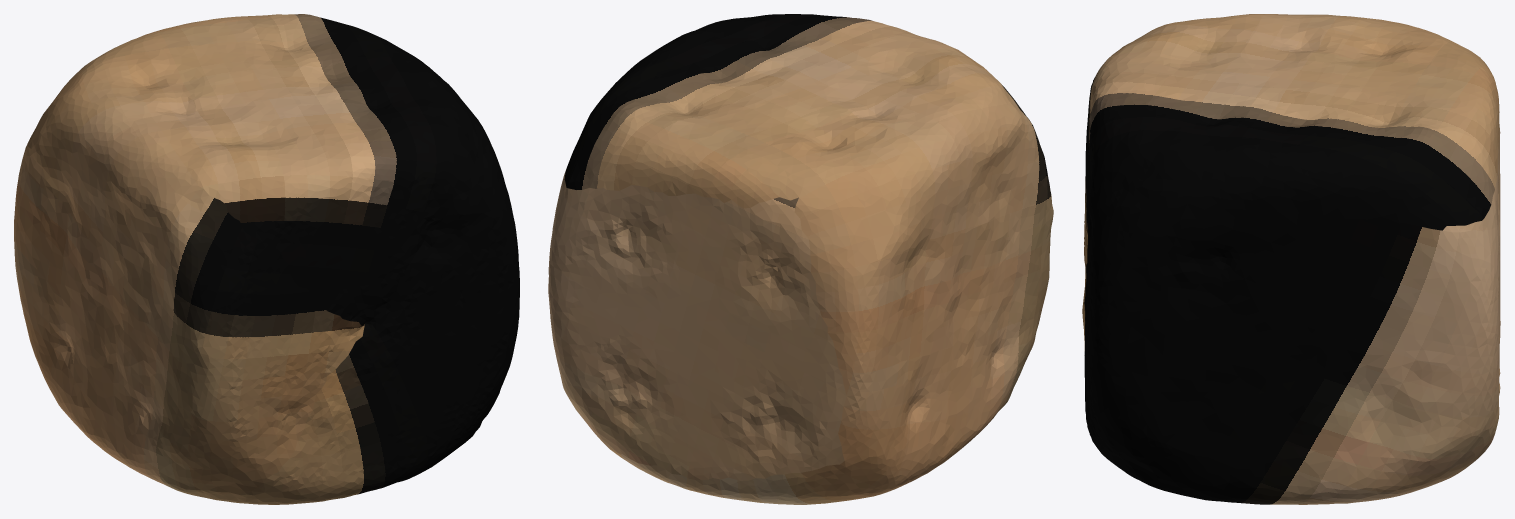
3 renders of one model, left to right at view 1: azimuth 30°, elevation 25°; view 2: azimuth 150°, elevation 25°; view 3: azimuth 270°, elevation 25°, orthographic. The views are drawn at different scales.
Size of the model in its own units: 0.0168 by 0.0166 by 0.0176.
